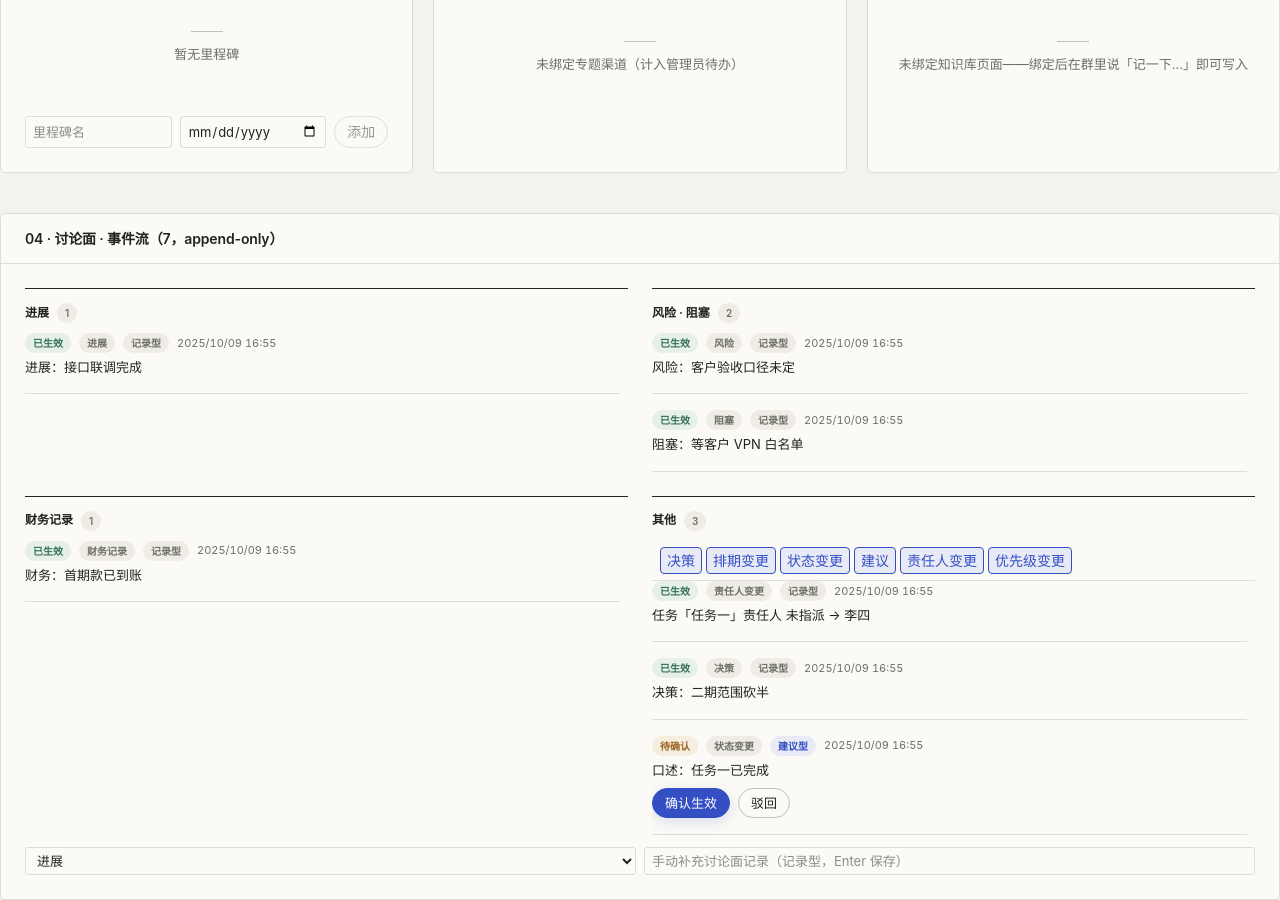
Test: S4-8 讨论面分栏（v0.47） › S4-8: 其他栏类型筛选器多选切换（默认全显，点选隐藏/恢复）
(page scrolled)
Click the button "决策".
click(681, 560)  # box [660,547,702,574]
(page scrolled)
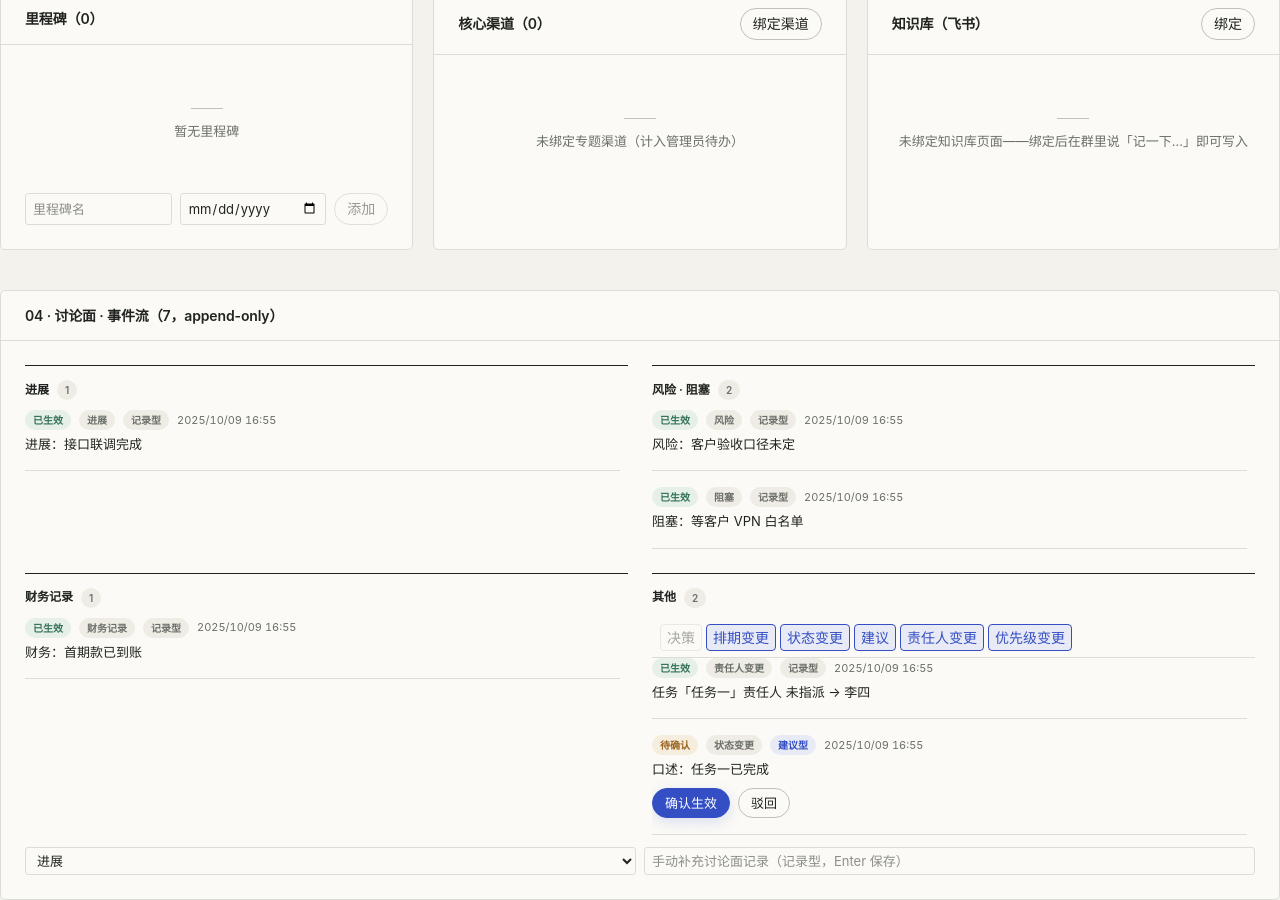
Expected: the text "任务「任务一」责任人 未指派 → 李四" is shown, [652,684,870,700]
Expected: the text "二期范围砍半" is gone
Click the button "决策".
click(681, 637)  # box [660,624,702,651]
(page scrolled)
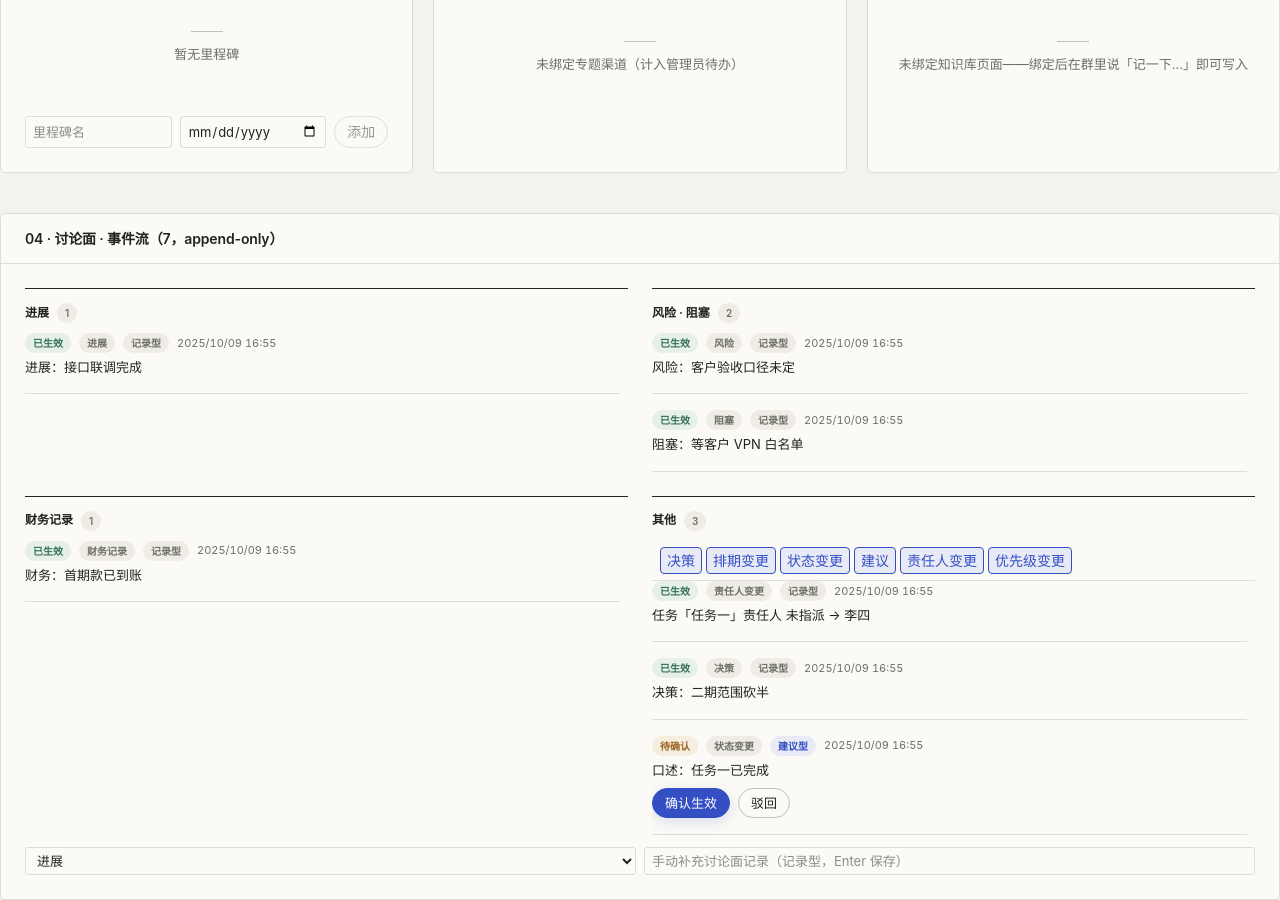
Expected: the text "决策：二期范围砍半" is shown, [652,684,769,700]
